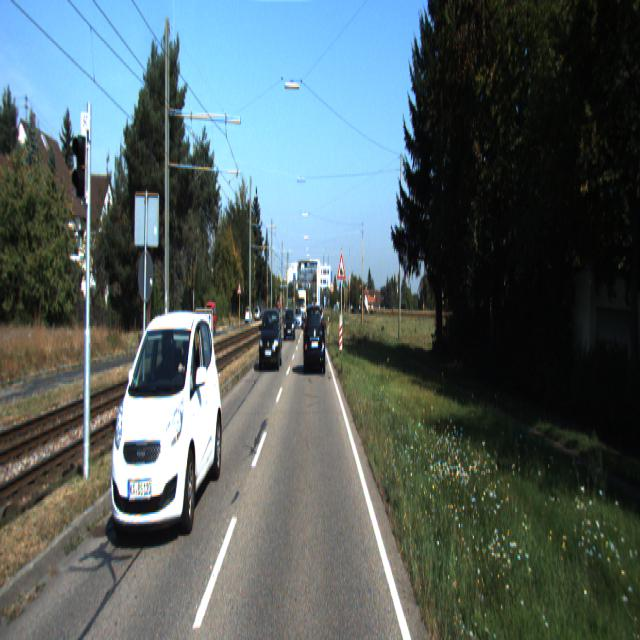Car: (107, 312, 226, 555), (304, 303, 326, 376), (260, 307, 282, 372), (203, 302, 217, 335), (284, 306, 296, 341)
